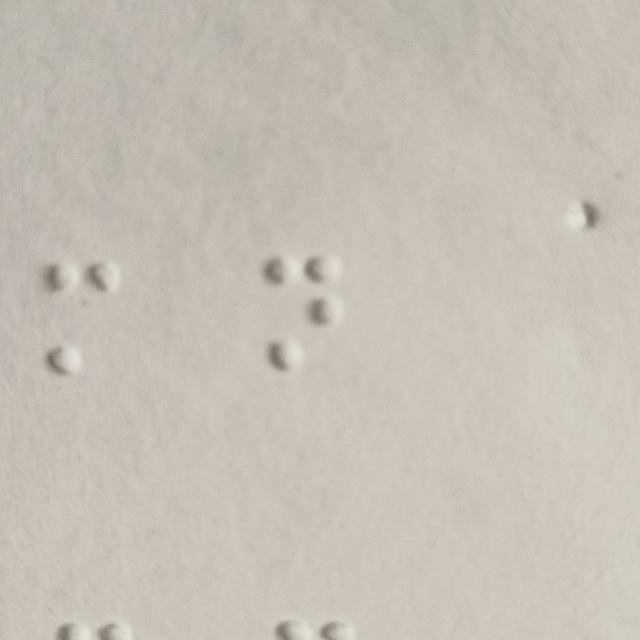one_cell_alphabet_mga: (44, 261, 121, 378)
one_cell_alphabet_ngayon: (264, 258, 341, 374)
